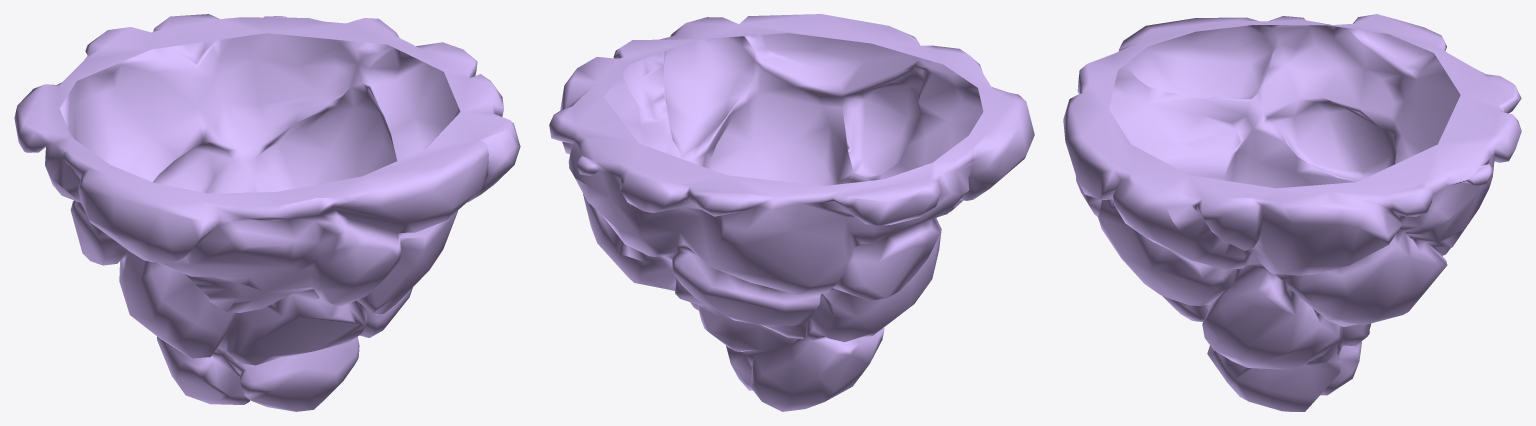
Rendered from island_4_LOD4.fbx.
3 renders of one model, left to right at view 1: azimuth 30°, elevation 25°; view 2: azimuth 150°, elevation 25°; view 3: azimuth 270°, elevation 25°, orthographic. The views are drawn at different scales.
Visible parts, largest first — view 1: island_4_LOD4; view 2: island_4_LOD4; view 3: island_4_LOD4.
Boxes of the visible parts, x1=… form: island_4_LOD4: x1=14, y1=14, x2=520, y2=411; island_4_LOD4: x1=549, y1=14, x2=1034, y2=411; island_4_LOD4: x1=1063, y1=14, x2=1521, y2=411.
Bounding box in the file's own units: 1532 × 1067 × 1500.
